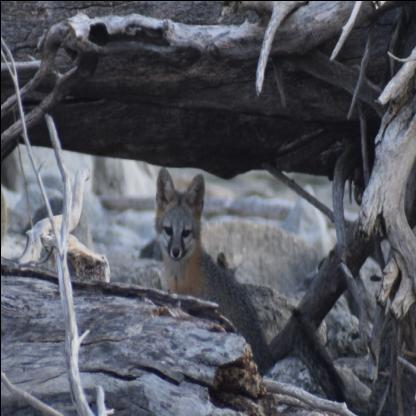zorro: (150, 160, 384, 416)
